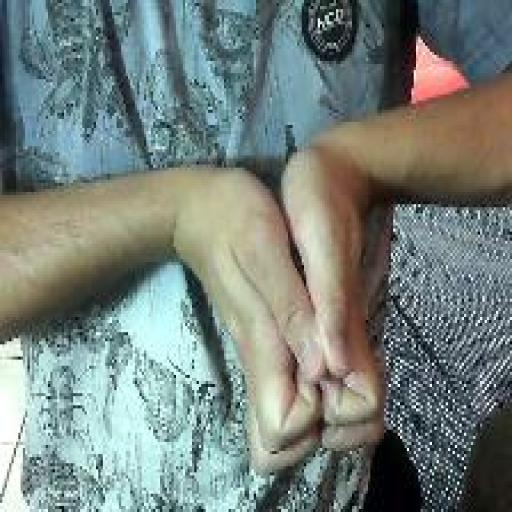I -boar-: (188, 148, 390, 477)
